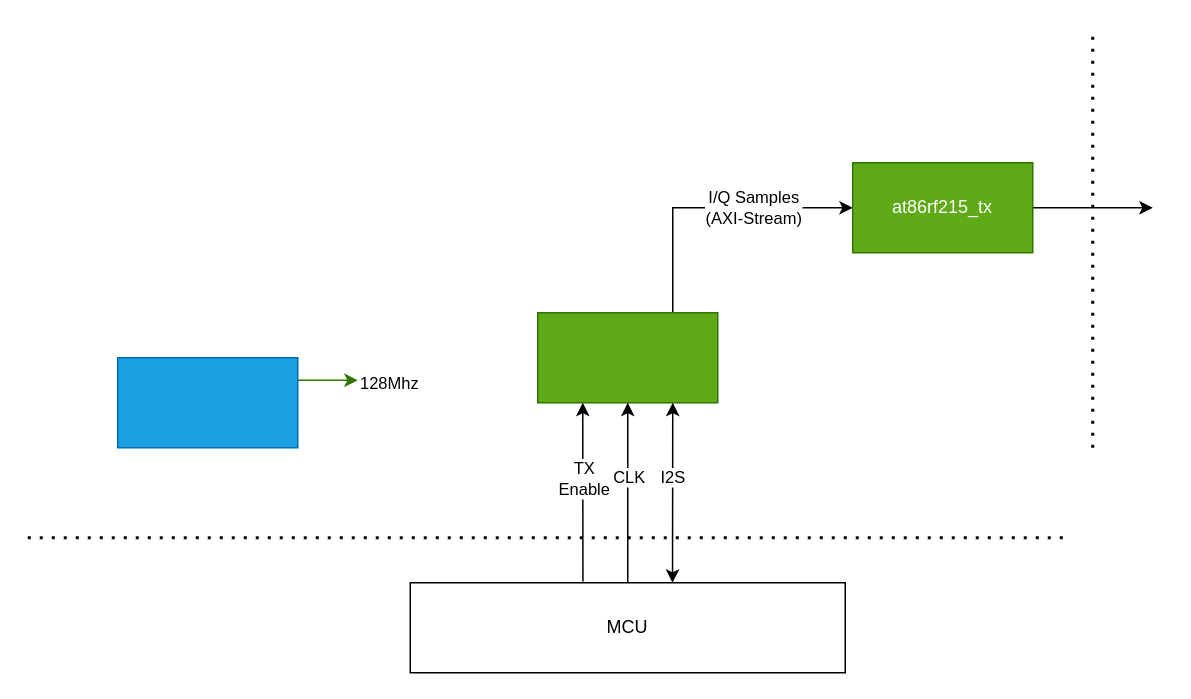
The diagram is 1191 pixels wide and 699 high, and some of its shapes have lost their labels. Here are the shapes that lost their labels. From the top down, the box of each, then its label:
(536, 311, 718, 403): MCU I2S Slave
(116, 356, 298, 448): PLL
